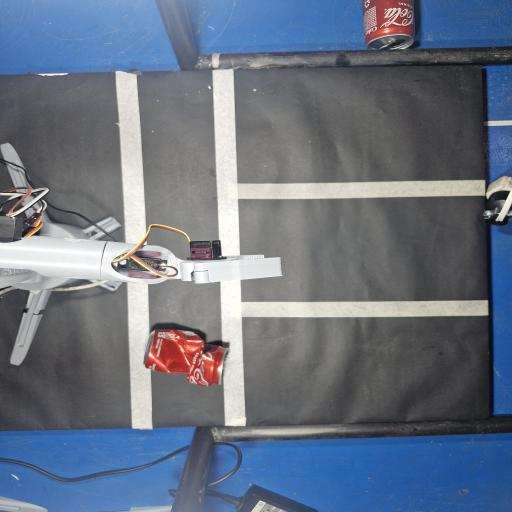lata_defectuoso: (145, 330, 224, 386)
